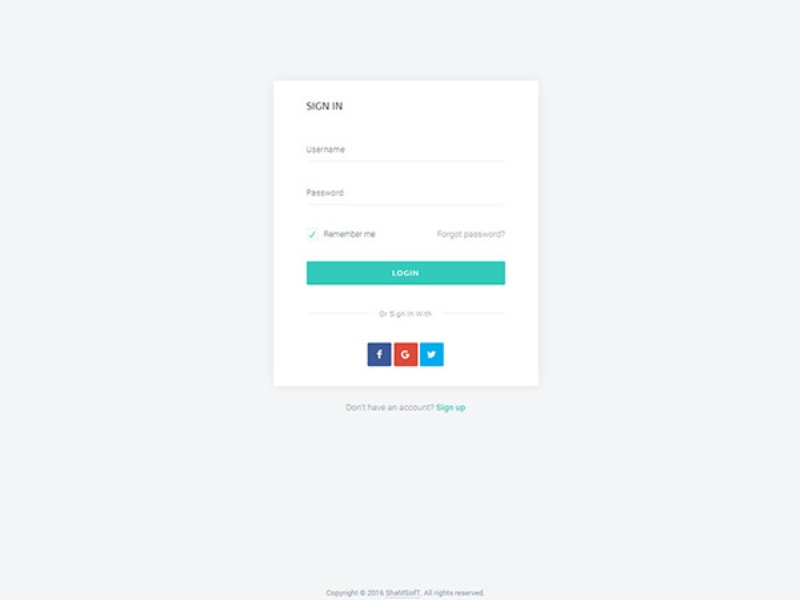button: (306, 261, 505, 285), (419, 342, 445, 367), (393, 342, 418, 367), (367, 342, 391, 366)
input: (304, 177, 507, 206), (303, 137, 504, 163)
